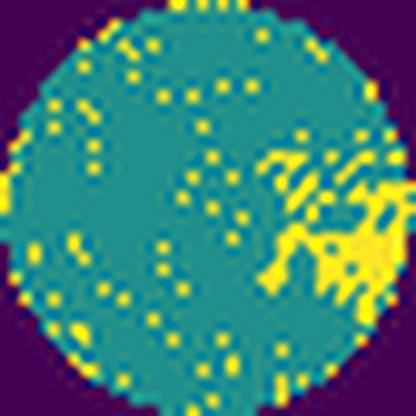Edge-Loc: (257, 178, 416, 325)
